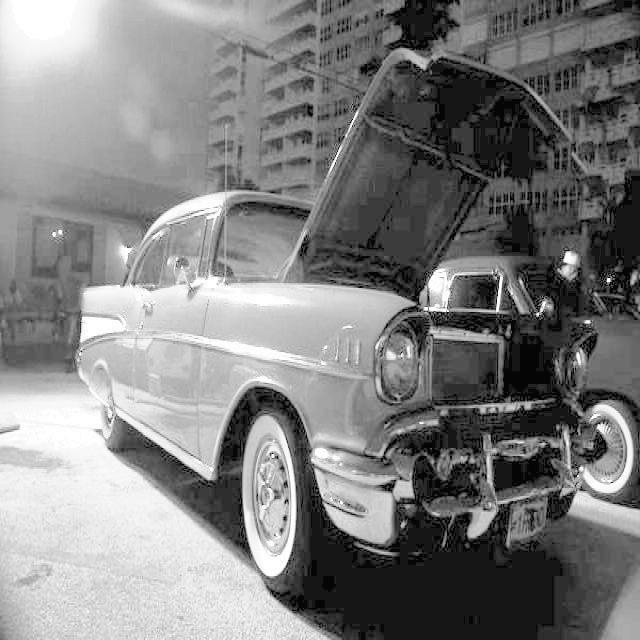Car: (75, 34, 592, 608), (403, 212, 640, 509)
